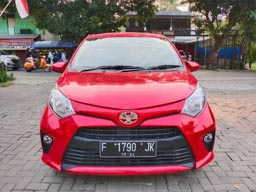plat: (99, 140, 159, 152)
